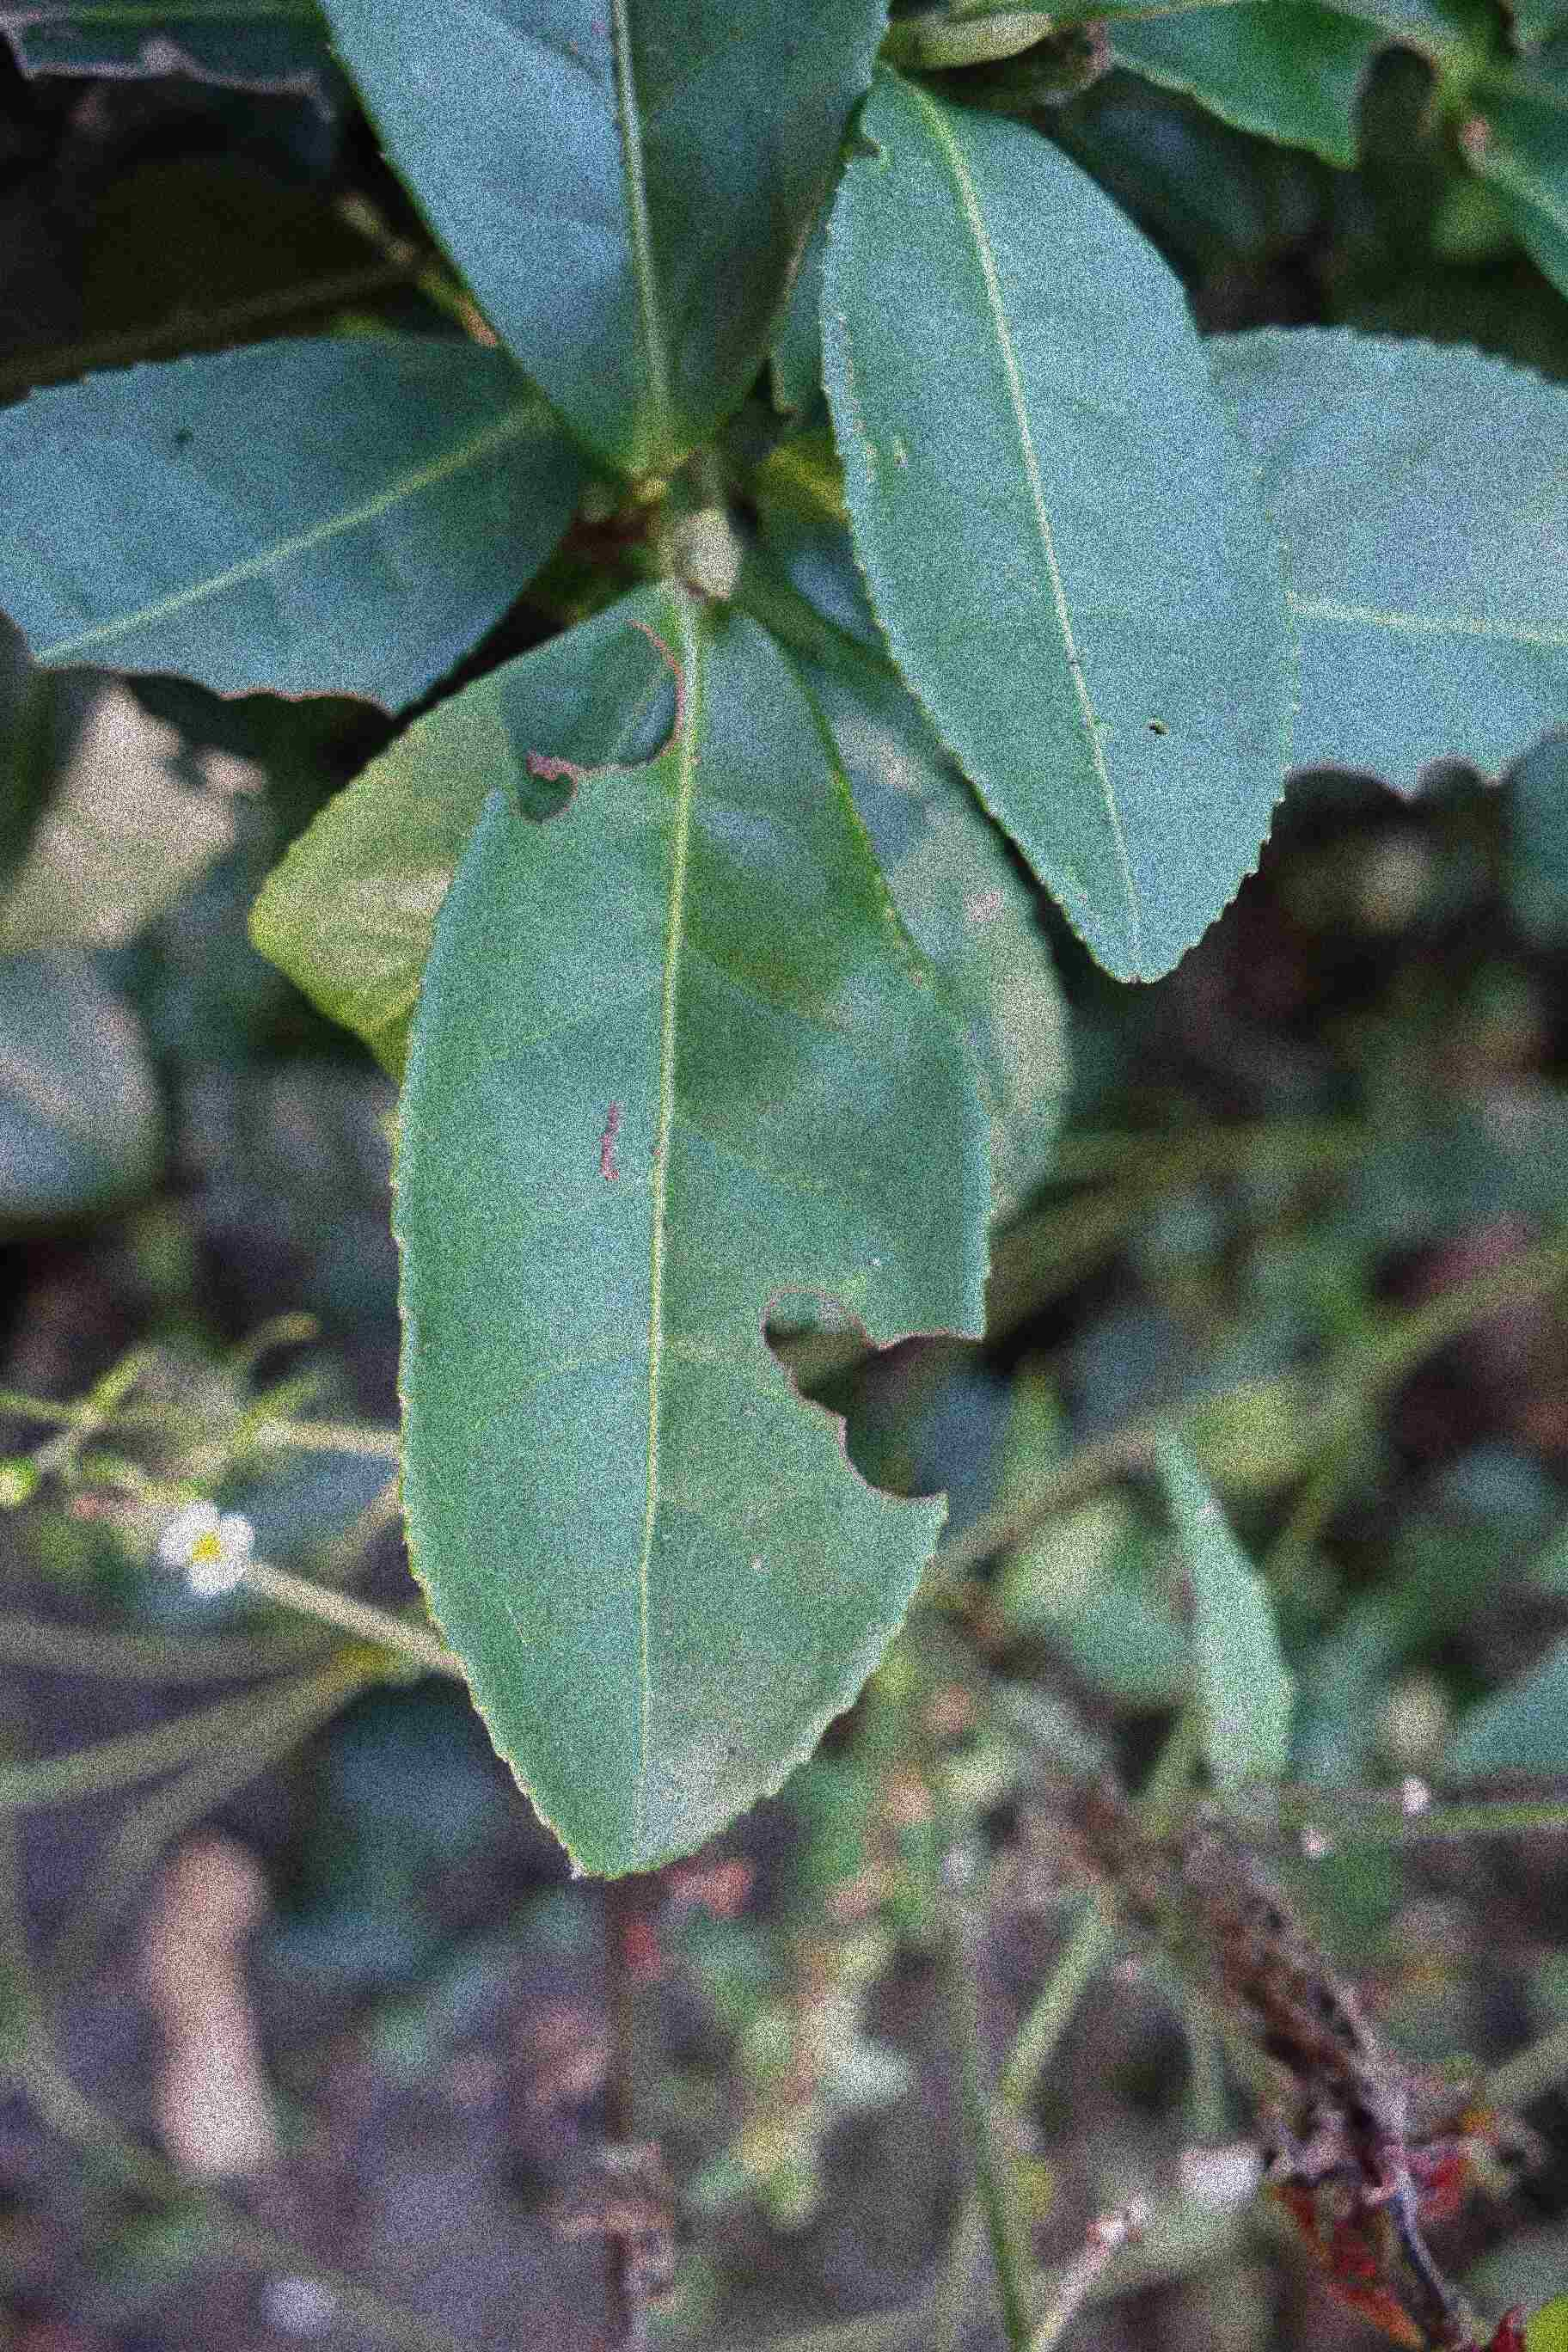chihuo_high: (387, 570, 994, 1876), (7, 334, 548, 717)
